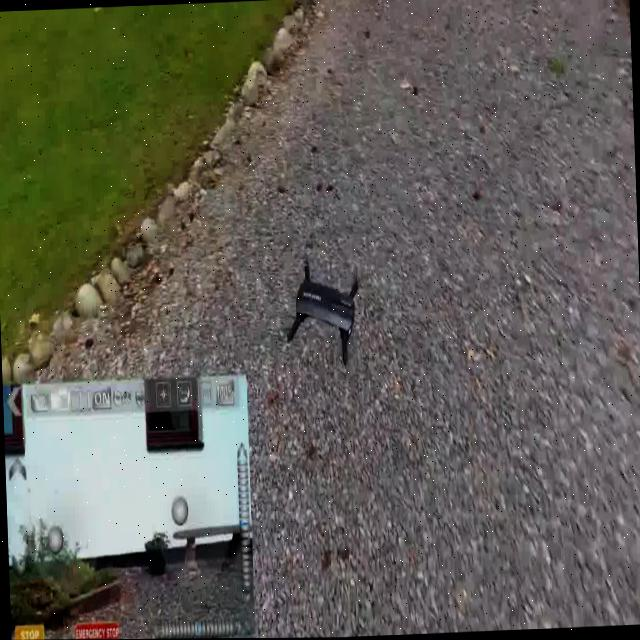drone: (258, 228, 388, 383)
